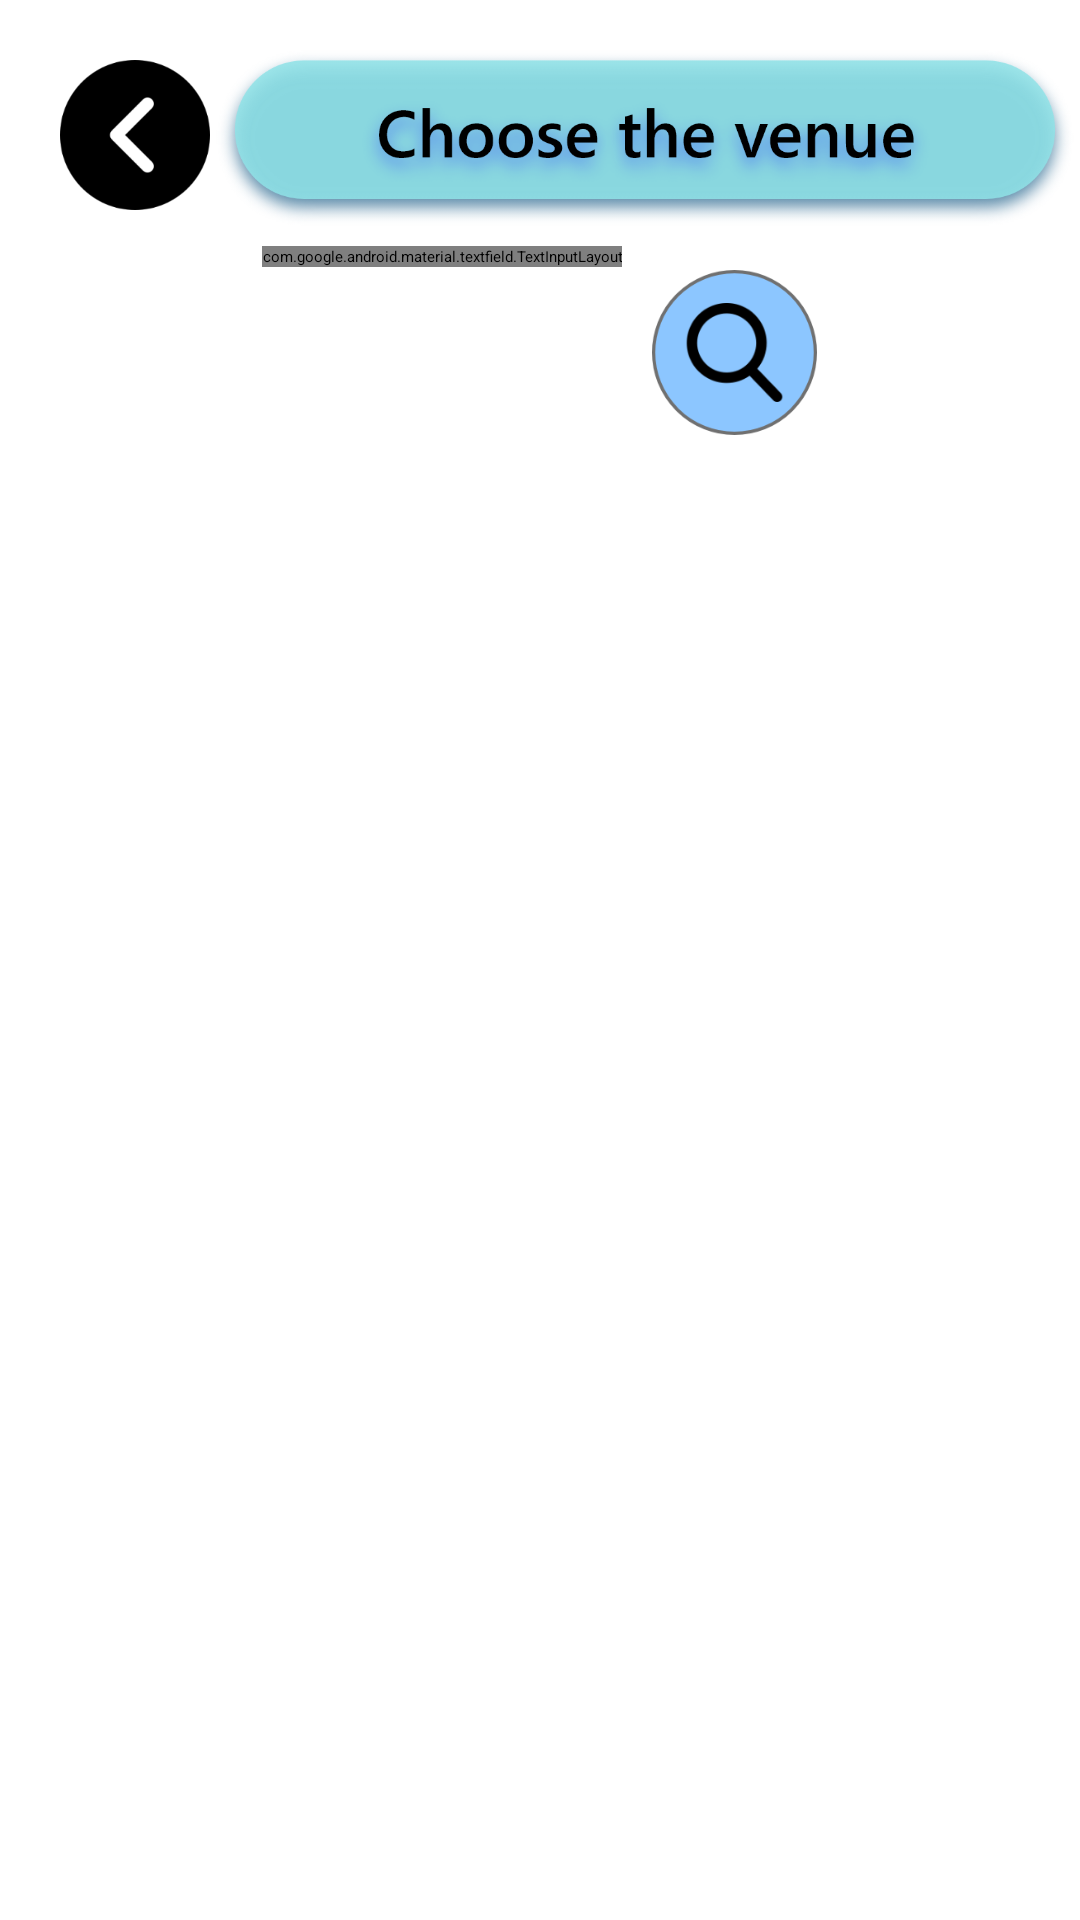

Screen size 1080x1920. Icon name, then its box in pixels as bbox=[x1, y1, x2, y2]:
previous: bbox=[60, 60, 210, 210]
search: bbox=[652, 270, 817, 435]
